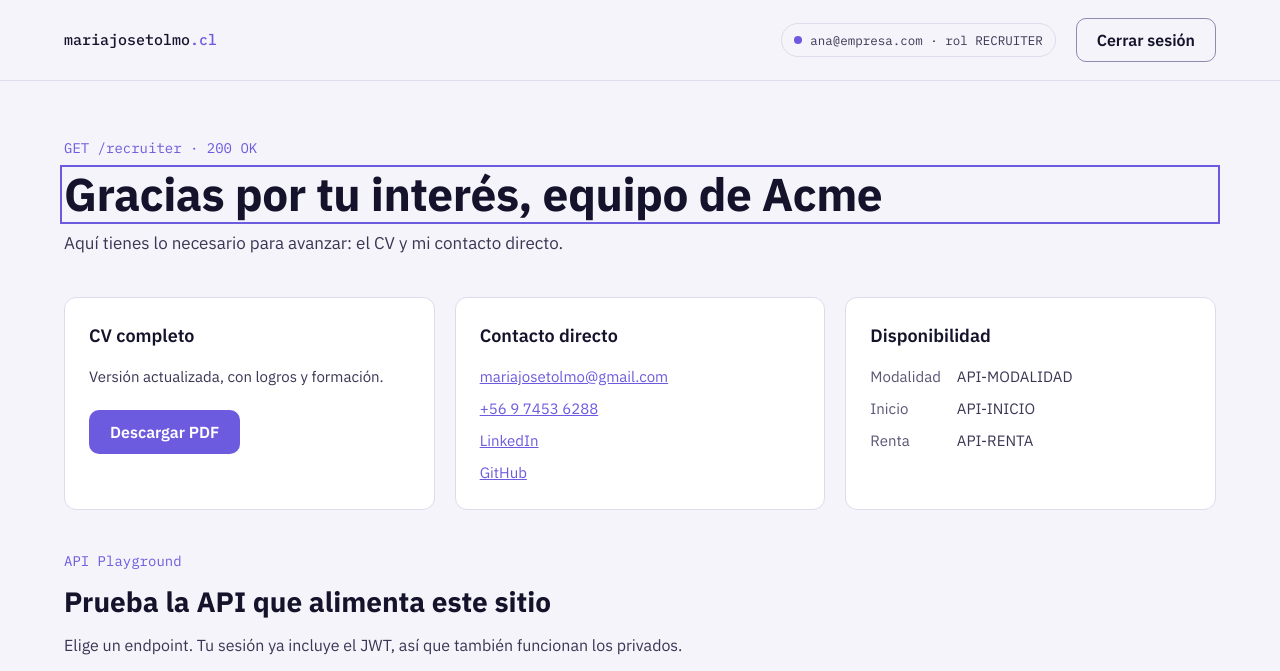
RecruiterZone logout › keeps the logout-specific copy for an unexpected answer
Check: the heading "Gracias por tu interés, equipo de Acme" is shown, box x1=64 y1=164 x2=882 y2=224
Click the button "Cerrar sesión". click: (1146, 40)
box: x1=1076 y1=18 x2=1216 y2=62
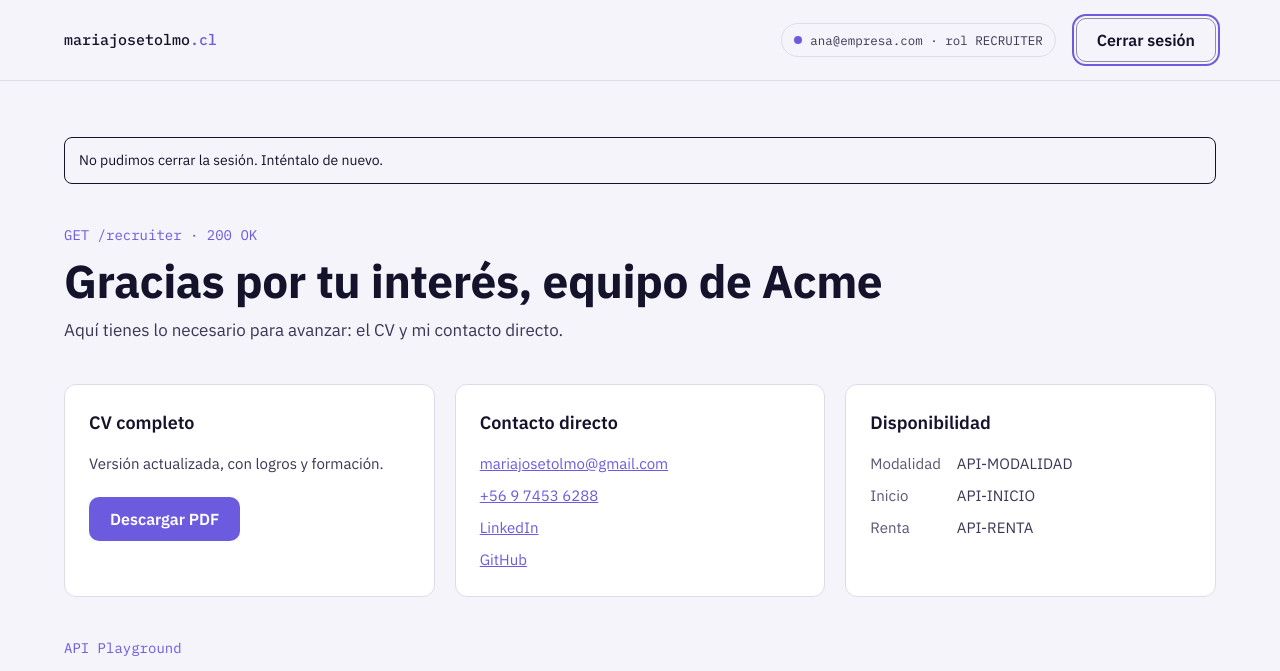
Check: the message reads "No pudimos cerrar la sesión. Inténtalo de nuevo.", box x1=79 y1=151 x2=383 y2=169
